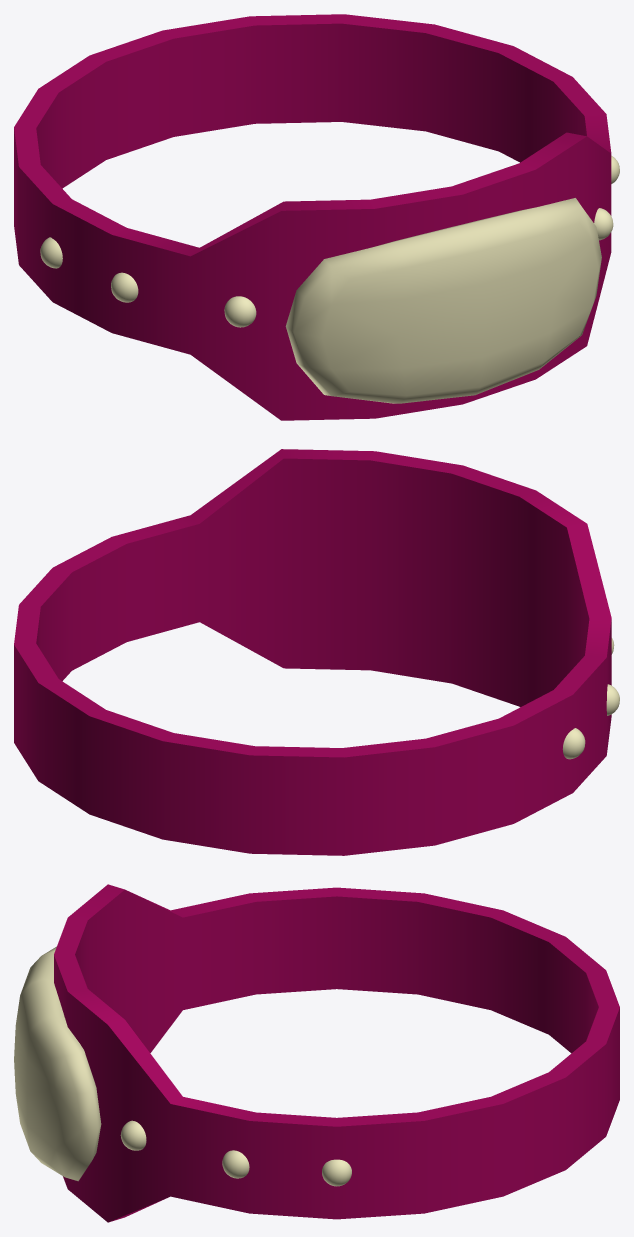
File: beruto.fbx
3 views of the same model, one above another, from view 1: azimuth 30°, elevation 25°; view 2: azimuth 150°, elevation 25°; view 3: azimuth 270°, elevation 25° (orthographic). The views are drawn at different scales.
Visible parts, largest first — view 1: beruto_base, dai, maru_5, maru_3; view 2: beruto_base; view 3: beruto_base, dai, maru_2, maru_4, maru_6.
Part boxes in pixels (<box>): beruto_base: <box>14,14,611,420</box>; dai: <box>285,198,601,403</box>; maru_5: <box>224,296,256,327</box>; maru_3: <box>111,272,138,302</box>; beruto_base: <box>14,449,611,855</box>; beruto_base: <box>54,884,619,1222</box>; dai: <box>14,946,101,1181</box>; maru_2: <box>322,1159,351,1186</box>; maru_4: <box>222,1150,249,1178</box>; maru_6: <box>120,1120,146,1150</box>.
Bounding box in the file's own units: 1.39 × 0.5159 × 1.43.
